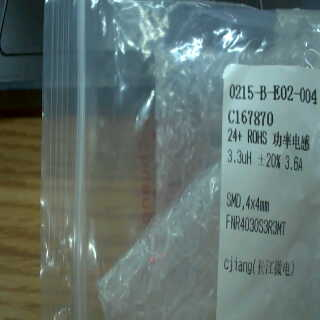3.3uH: (227, 142, 255, 174)
